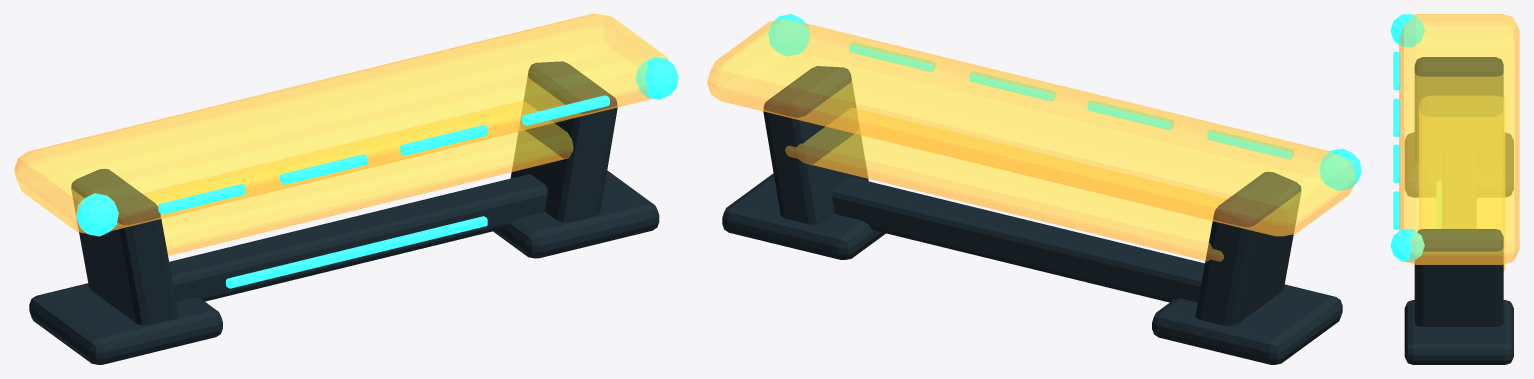
The model's file is waystation_crystal_counter.glb.
3 views of the same model, side by side, from view 1: azimuth 30°, elevation 25°; view 2: azimuth 150°, elevation 25°; view 3: azimuth 270°, elevation 25° (orthographic). The views are drawn at different scales.
Parts seen in each view (by area): view 1: CrystalTop, CrystalShelf, LowerBrace, RightLeg, LeftLeg, LeftFoot, RightFoot, BraceInlay, LeftCornerEmitter, RightCornerEmitter, FrontInlay1, FrontInlay3 (+2 smaller); view 2: CrystalTop, CrystalShelf, LowerBrace, RightLeg, LeftLeg, LeftFoot, RightFoot, LeftCornerEmitter, RightCornerEmitter, FrontInlay1, FrontInlay3, FrontInlay4 (+1 smaller); view 3: CrystalTop, CrystalShelf, RightLeg, LeftLeg, RightFoot, LeftFoot, LeftCornerEmitter, RightCornerEmitter, FrontInlay2, FrontInlay4, FrontInlay1, FrontInlay3.
Boxes of the visible parts, box(x1,y1,x2,y2) form: CrystalTop: box(14, 14, 667, 233); CrystalShelf: box(144, 101, 573, 255); LowerBrace: box(169, 174, 547, 301); RightLeg: box(510, 61, 617, 222); LeftLeg: box(71, 169, 178, 325); LeftFoot: box(29, 283, 222, 364); RightFoot: box(493, 170, 659, 258); BraceInlay: box(226, 216, 487, 288); LeftCornerEmitter: box(76, 193, 118, 236); RightCornerEmitter: box(636, 57, 678, 99); FrontInlay1: box(158, 184, 245, 214); FrontInlay3: box(400, 125, 487, 155); CrystalTop: box(707, 19, 1355, 236); CrystalShelf: box(785, 108, 1226, 261); LowerBrace: box(832, 177, 1204, 302); RightLeg: box(763, 66, 868, 224); LeftLeg: box(1195, 171, 1301, 325); LeftFoot: box(1152, 284, 1342, 364); RightFoot: box(722, 173, 885, 259); LeftCornerEmitter: box(1319, 148, 1361, 190); RightCornerEmitter: box(768, 14, 809, 56); FrontInlay1: box(1207, 130, 1293, 158); FrontInlay3: box(969, 72, 1055, 100); FrontInlay4: box(849, 42, 935, 71); CrystalTop: box(1399, 14, 1519, 264); CrystalShelf: box(1419, 97, 1505, 271); RightLeg: box(1414, 229, 1503, 326); LeftLeg: box(1414, 57, 1503, 164); RightFoot: box(1404, 300, 1513, 364); LeftFoot: box(1405, 132, 1513, 197); LeftCornerEmitter: box(1390, 14, 1424, 47); RightCornerEmitter: box(1390, 229, 1424, 261); FrontInlay2: box(1393, 98, 1400, 136); FrontInlay4: box(1393, 191, 1400, 229); FrontInlay1: box(1393, 51, 1400, 90); FrontInlay3: box(1393, 144, 1400, 182).
Bounding box in the file's own units: 3.8 × 1.06 × 0.9.
